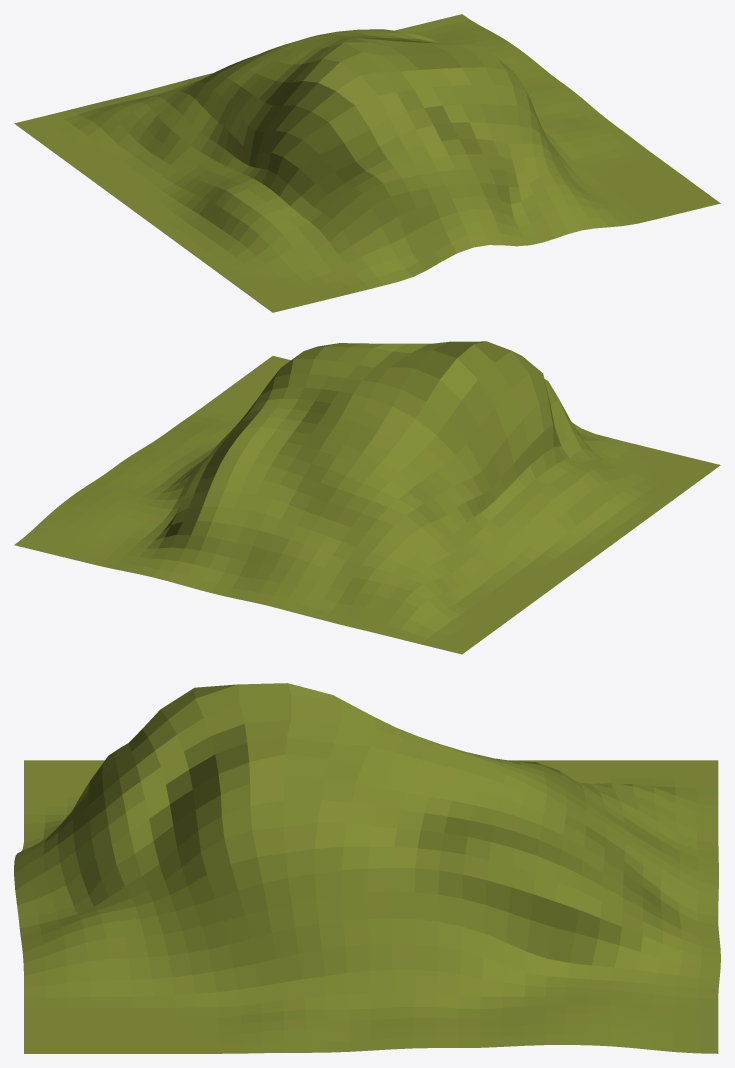
The model's file is hill.glb.
The picture shows the model from 3 angles, top to bottom: view 1: azimuth 30°, elevation 25°; view 2: azimuth 150°, elevation 25°; view 3: azimuth 270°, elevation 25°; orthographic projection. The views are drawn at different scales.
Visible parts, largest first — view 1: Plane; view 2: Plane; view 3: Plane.
Boxes of the visible parts, bbox=[...] form: Plane: bbox=[14, 14, 720, 312]; Plane: bbox=[14, 341, 720, 654]; Plane: bbox=[14, 683, 720, 1053].
Size of the model in its own units: 3.19 by 0.9632 by 3.25.
